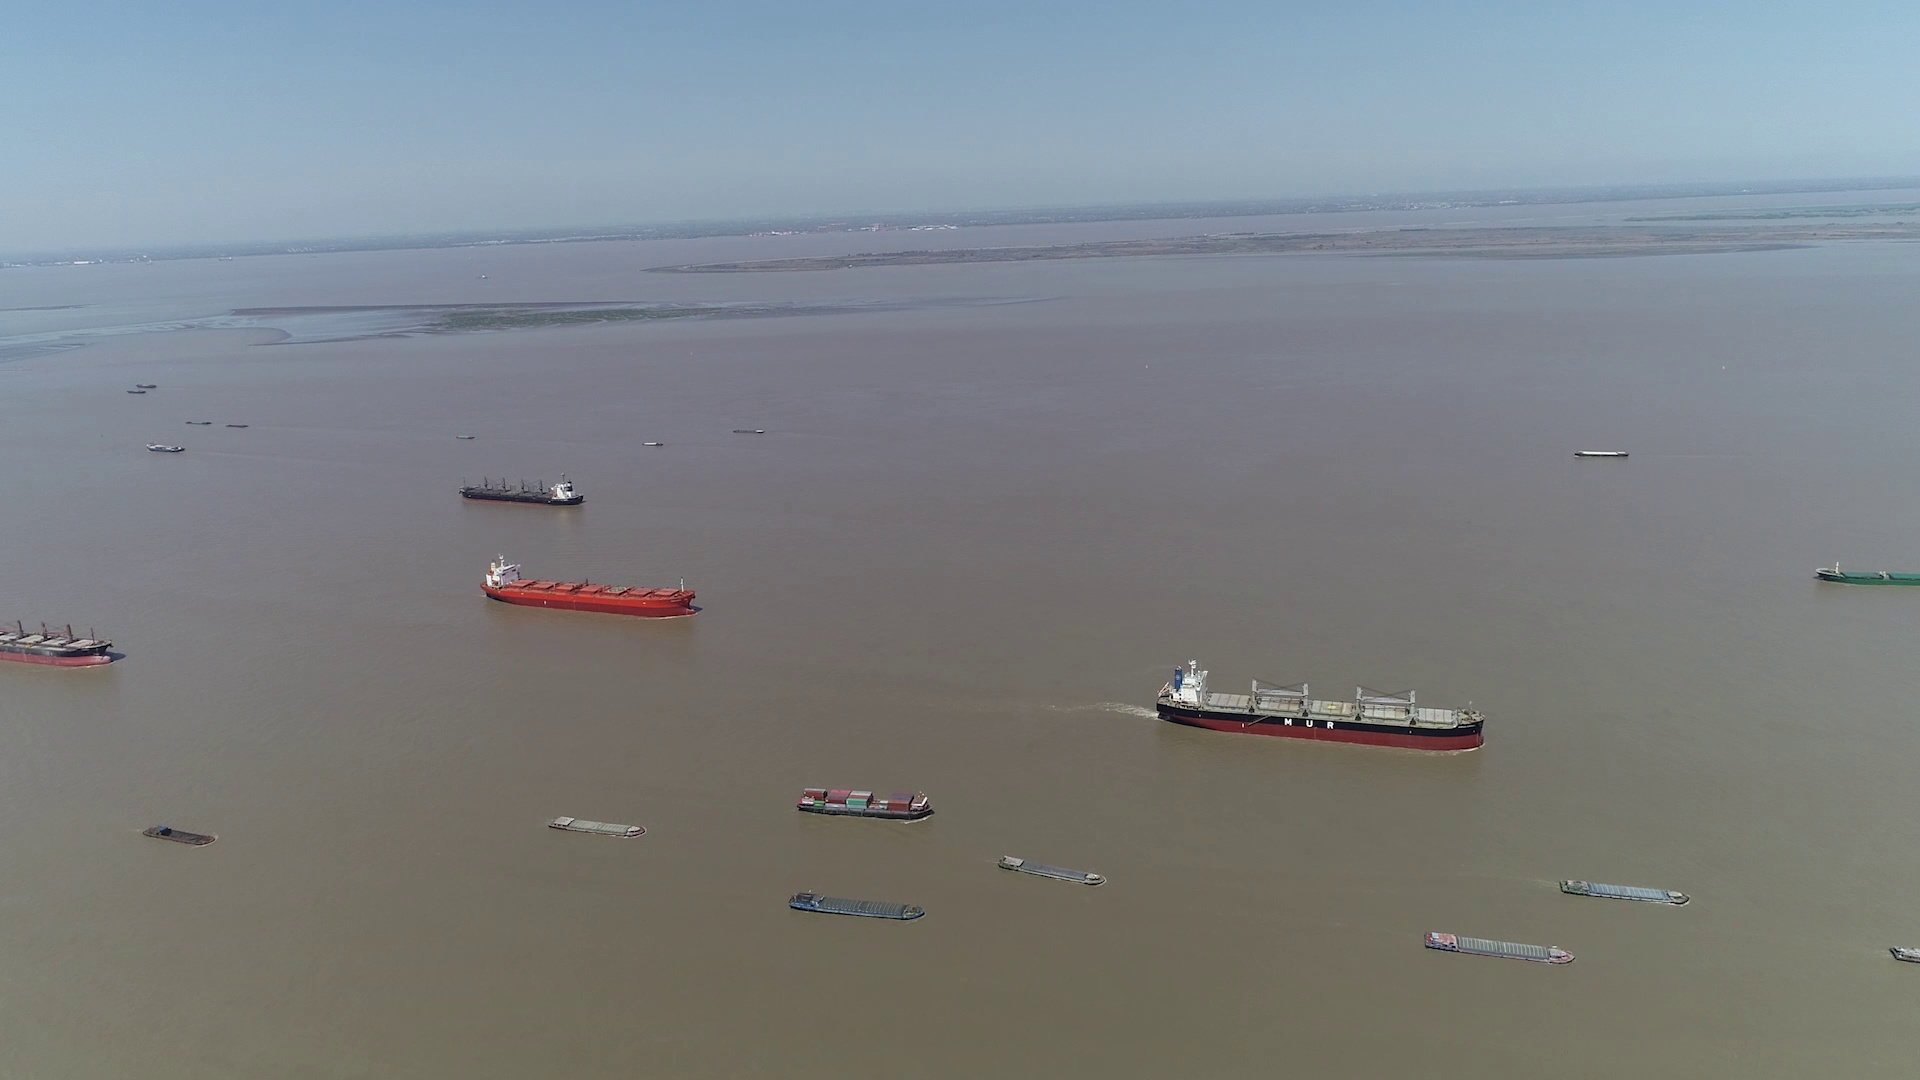ship: (1158, 661, 1486, 752), (484, 555, 698, 618), (0, 601, 120, 667), (1425, 932, 1575, 965), (789, 890, 927, 923), (798, 787, 934, 820), (459, 473, 584, 506), (997, 853, 1109, 887), (1561, 878, 1688, 906), (1815, 562, 1920, 585), (546, 815, 646, 839), (144, 822, 216, 845), (1884, 942, 1917, 967), (1573, 448, 1630, 458), (149, 442, 185, 454)
